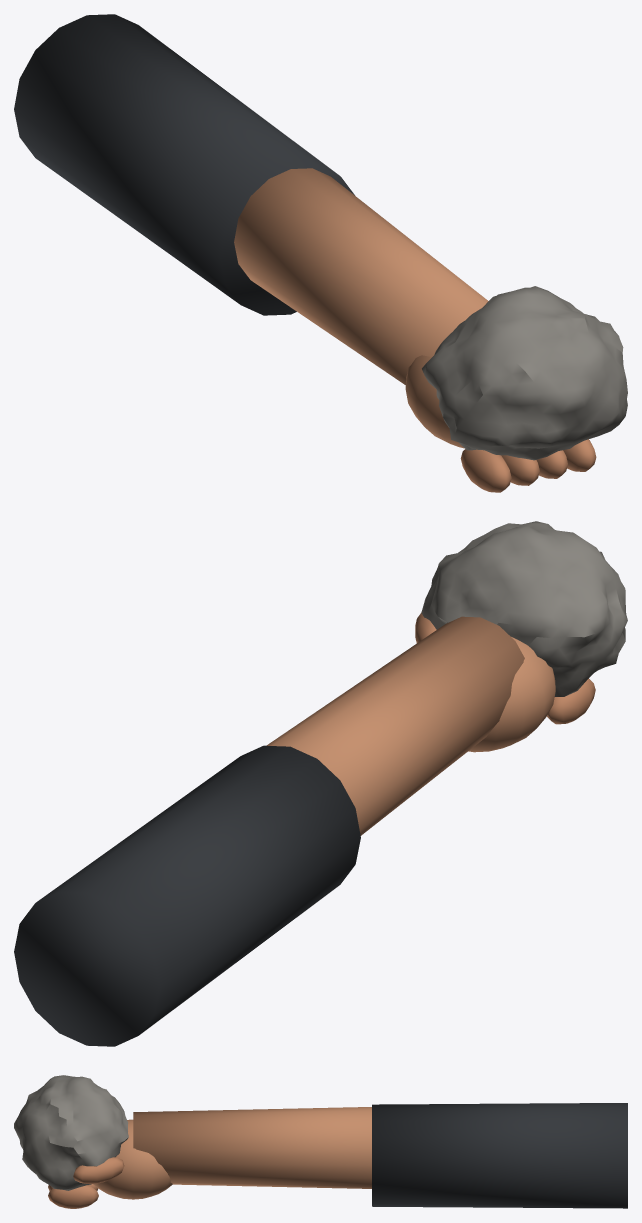
File: hand_rock.glb
3 views of the same model, one above another, from view 1: azimuth 30°, elevation 25°; view 2: azimuth 150°, elevation 25°; view 3: azimuth 270°, elevation 25° (orthographic). The views are drawn at different scales.
Parts seen in each view (by area): view 1: Hand, HeldRock; view 2: Hand, HeldRock; view 3: Hand, HeldRock.
Part boxes in pixels (<box>): Hand: <box>14,14,596,492</box>; HeldRock: <box>422,286,627,460</box>; Hand: <box>14,612,595,1046</box>; HeldRock: <box>421,521,627,696</box>; Hand: <box>48,1103,627,1208</box>; HeldRock: <box>14,1075,128,1190</box>.
Bounding box in the file's own units: 0.1589 × 0.1598 × 0.7197.
